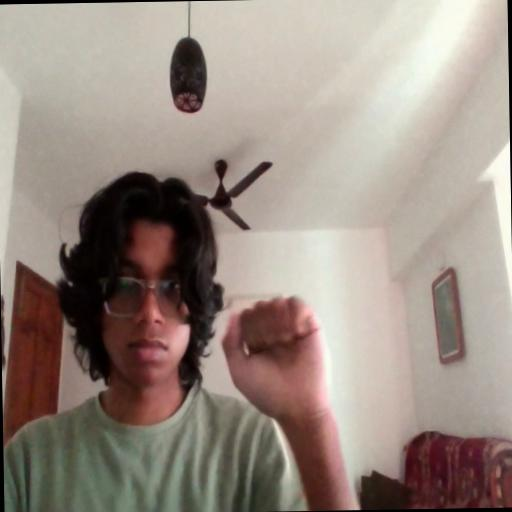Rock: (221, 293, 328, 424)
